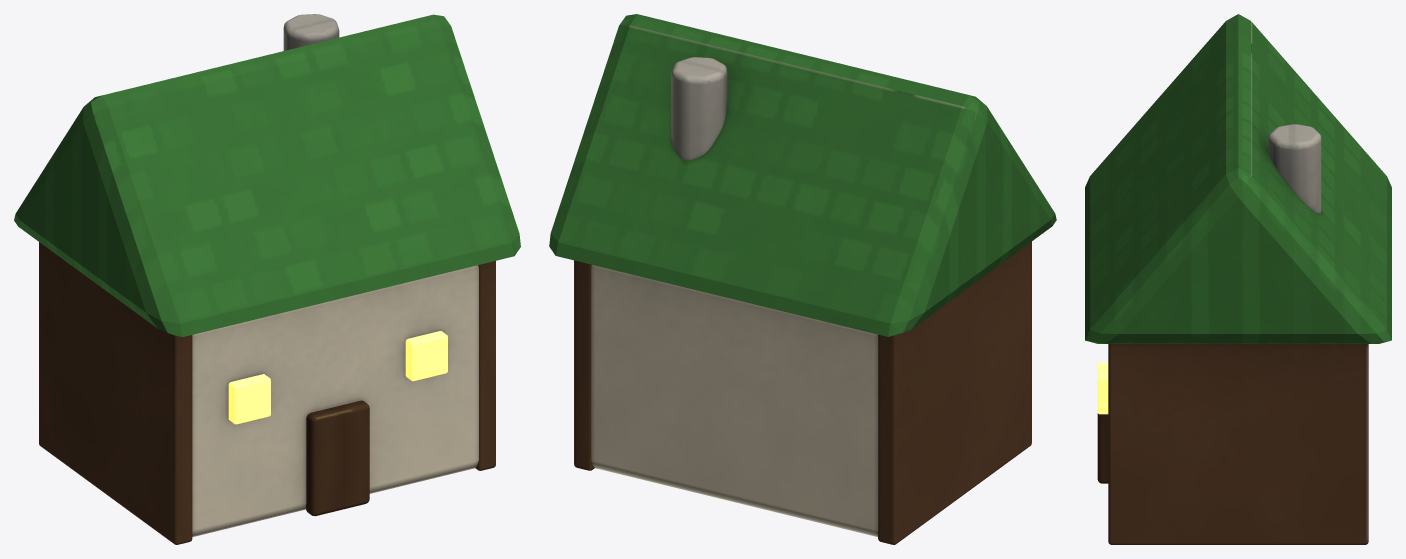
File: house_green.glb
3 renders of one model, left to right at view 1: azimuth 30°, elevation 25°; view 2: azimuth 150°, elevation 25°; view 3: azimuth 270°, elevation 25°, orthographic. The views are drawn at different scales.
Parts seen in each view (by area): view 1: house; view 2: house; view 3: house.
Boxes of the visible parts, box(x1,y1,x2,y2) form: house: box(14, 14, 520, 544); house: box(549, 14, 1056, 544); house: box(1085, 14, 1391, 544).
Bounding box in the file's own units: 0.5 × 0.5207 × 0.3809.
Materials: 2 (1 with a texture image).
